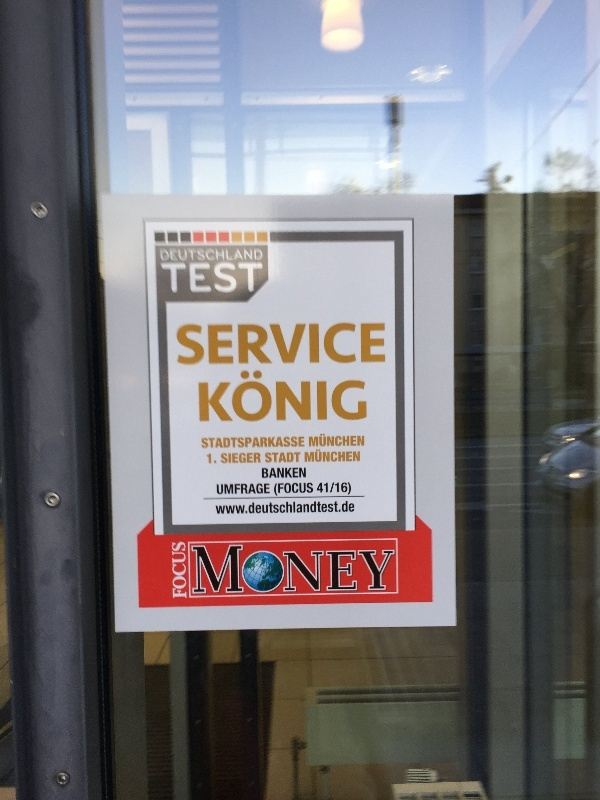text: (209, 369, 224, 428), (225, 369, 240, 428), (241, 369, 256, 428), (257, 369, 272, 428), (273, 369, 288, 428), (289, 369, 304, 428), (305, 369, 320, 428), (321, 369, 336, 428), (337, 369, 352, 428), (353, 369, 368, 428), (193, 544, 208, 596), (209, 544, 224, 596), (225, 544, 240, 596), (241, 544, 256, 596), (257, 544, 272, 596), (273, 544, 288, 596), (289, 544, 304, 596), (305, 544, 320, 596), (321, 544, 336, 596), (337, 544, 352, 596), (353, 544, 368, 596), (369, 544, 384, 596), (177, 322, 192, 369), (193, 322, 208, 369), (209, 322, 224, 369), (225, 322, 240, 369), (241, 322, 256, 369), (257, 322, 272, 369), (273, 322, 288, 369), (289, 322, 304, 369), (305, 322, 320, 369), (321, 322, 336, 369), (337, 322, 352, 369), (353, 322, 368, 369), (369, 322, 384, 369), (177, 541, 188, 601), (385, 544, 396, 596), (199, 369, 208, 428), (161, 262, 176, 294), (177, 262, 192, 294), (193, 262, 208, 294), (209, 262, 224, 294), (225, 262, 240, 294), (241, 262, 256, 294), (257, 262, 265, 294), (225, 500, 240, 517), (241, 500, 256, 517), (257, 500, 272, 517), (273, 500, 288, 517), (289, 500, 304, 517), (305, 500, 320, 517), (321, 500, 336, 517), (337, 500, 352, 517), (172, 541, 176, 601), (305, 448, 320, 463), (321, 448, 336, 463), (337, 448, 352, 463), (161, 248, 176, 262), (177, 248, 192, 262), (193, 248, 208, 262), (209, 248, 224, 262), (225, 248, 240, 262), (241, 248, 256, 262), (321, 434, 336, 448), (337, 434, 352, 448), (289, 482, 304, 496), (321, 482, 336, 496), (337, 482, 352, 496), (289, 436, 305, 449), (209, 436, 224, 449), (225, 436, 240, 449), (241, 436, 256, 449), (257, 436, 272, 449), (273, 436, 288, 449), (275, 482, 288, 496), (225, 452, 240, 464), (241, 452, 256, 464), (273, 467, 288, 479), (289, 467, 304, 479), (225, 483, 240, 495), (241, 483, 256, 495), (353, 434, 365, 448), (273, 452, 288, 463), (257, 483, 270, 495), (309, 434, 320, 448), (215, 500, 224, 517), (289, 452, 301, 463), (353, 448, 361, 463), (262, 467, 272, 479), (209, 452, 218, 465), (305, 482, 313, 496), (257, 248, 264, 262), (385, 322, 387, 369), (217, 483, 224, 495), (202, 436, 208, 449), (265, 452, 272, 463), (257, 452, 262, 464), (191, 544, 192, 596), (221, 452, 224, 464), (353, 500, 355, 517), (159, 248, 160, 262), (319, 482, 320, 496), (207, 452, 208, 465), (305, 467, 306, 479)
